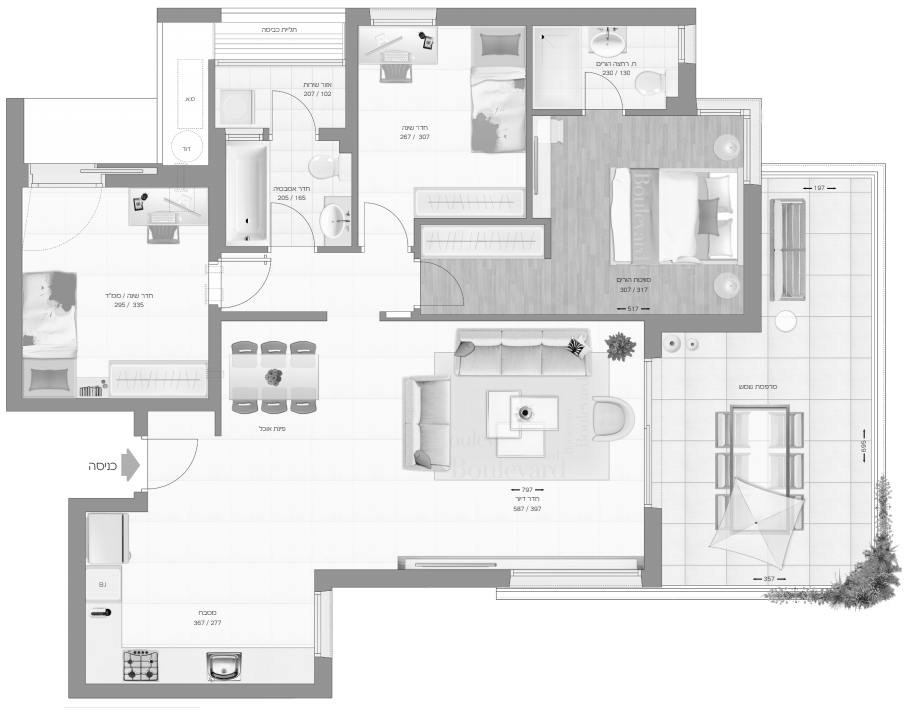window: (643, 357, 663, 509), (507, 567, 643, 588), (313, 591, 335, 660), (370, 6, 435, 25), (696, 96, 745, 117), (677, 24, 696, 63), (224, 126, 265, 141)
